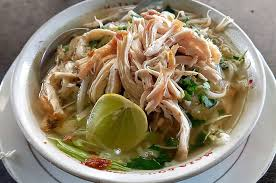Soto: (26, 4, 255, 172)
